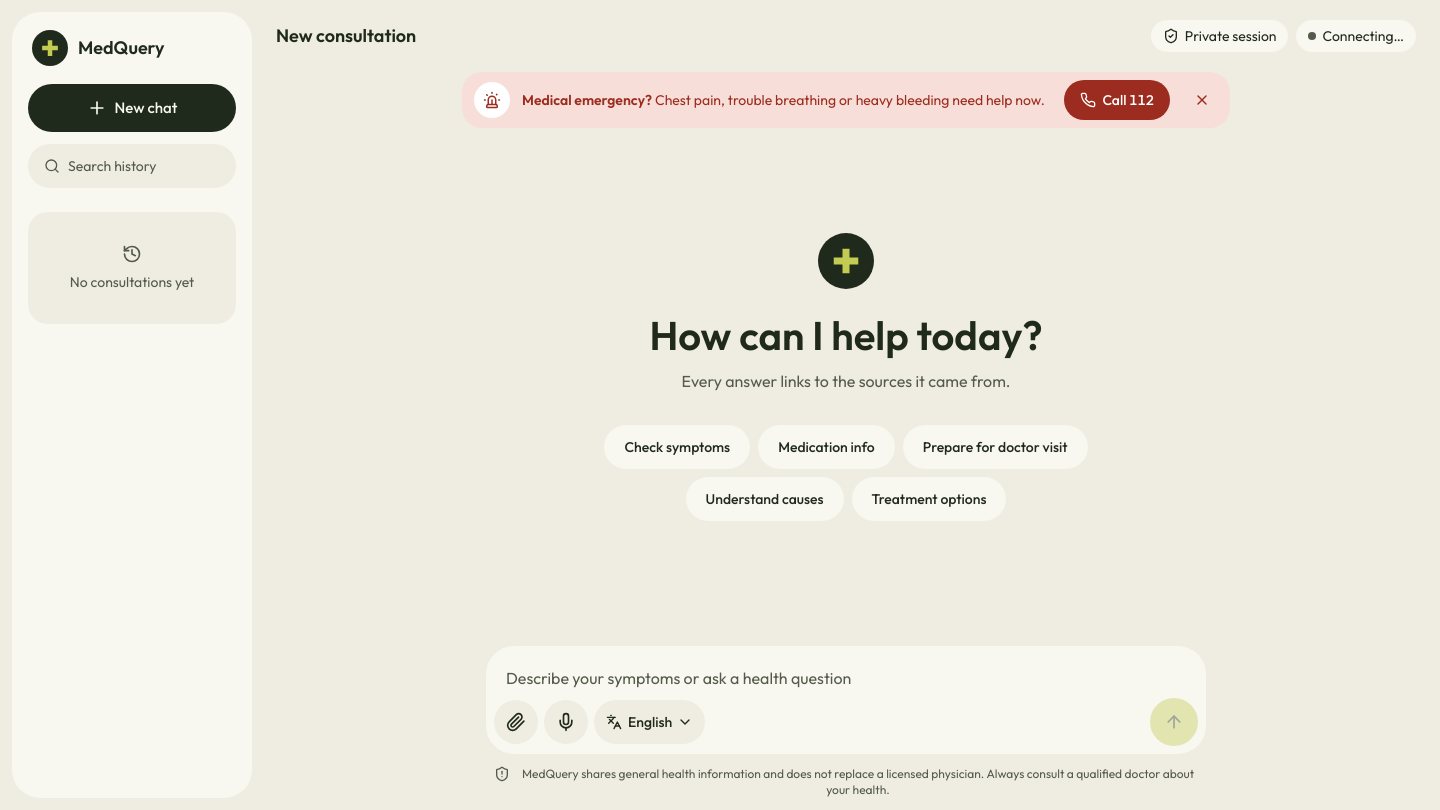
it: an answer renders with confidence, escaped highlighted evidence and safe sources
Type "What is the answer token?" into the text box named "Your medical question" at (846,676), box [494,654,1198,698]
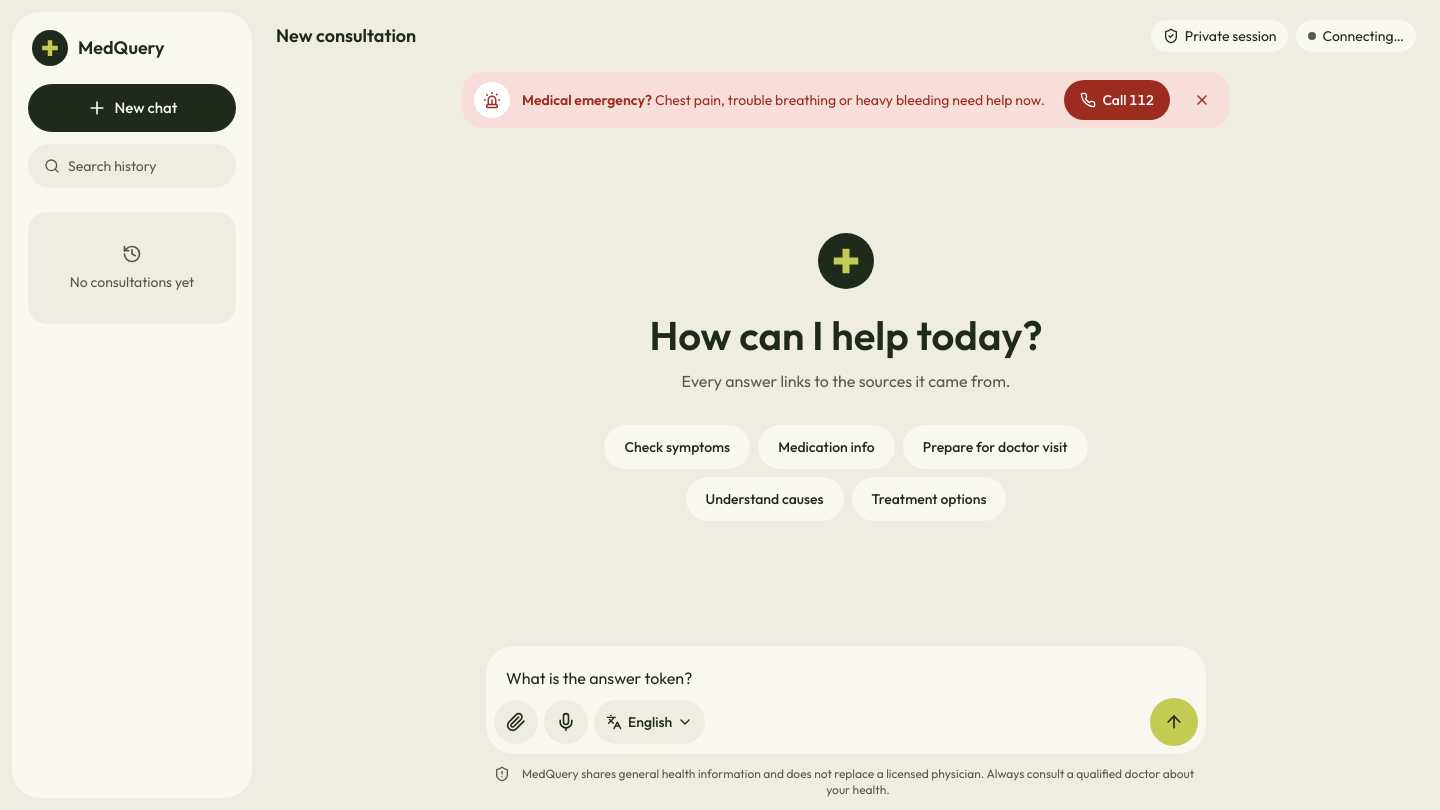
Submit the form named "Your medical question", box [486,646,1206,754]
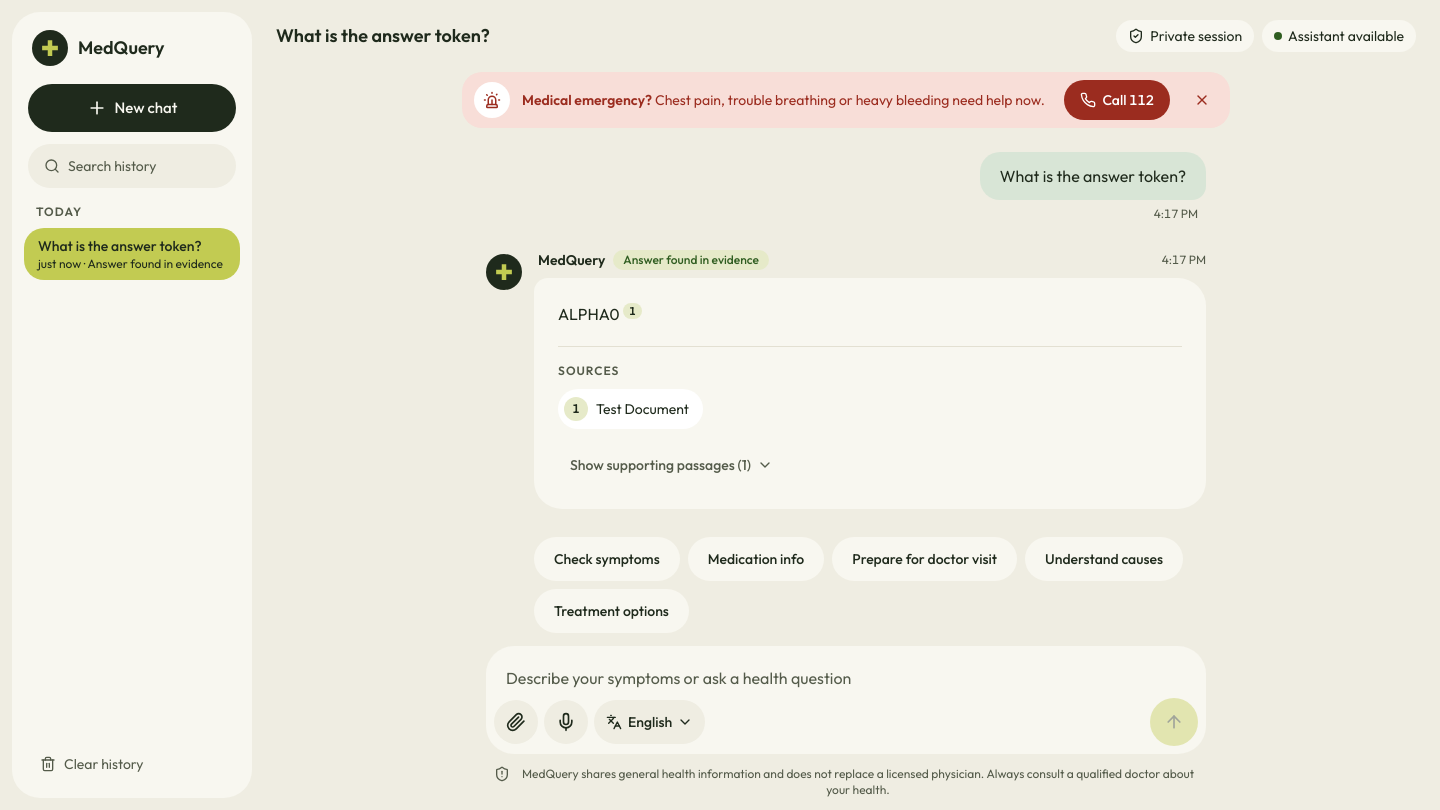
Expected: the element with test id "answer-text" is shown, [558,302,642,324]
Expected: the element with test id "answer-text" shows "ALPHA0", [558,304,619,324]
Click the button "Show supporting passages (1)" at (671,465), box [558,445,785,485]
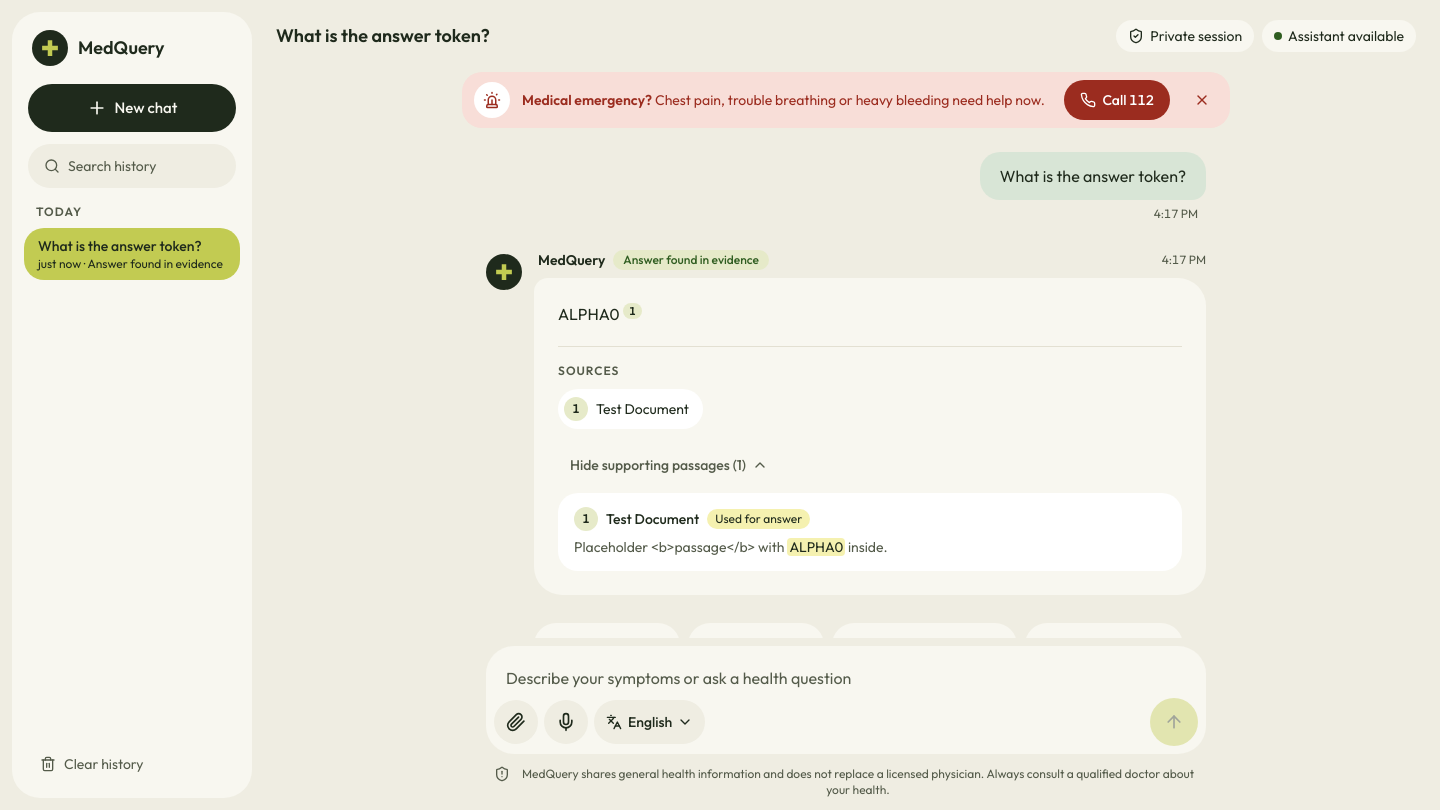
Expected: the text "ALPHA0" is shown, [787,538,845,556]
